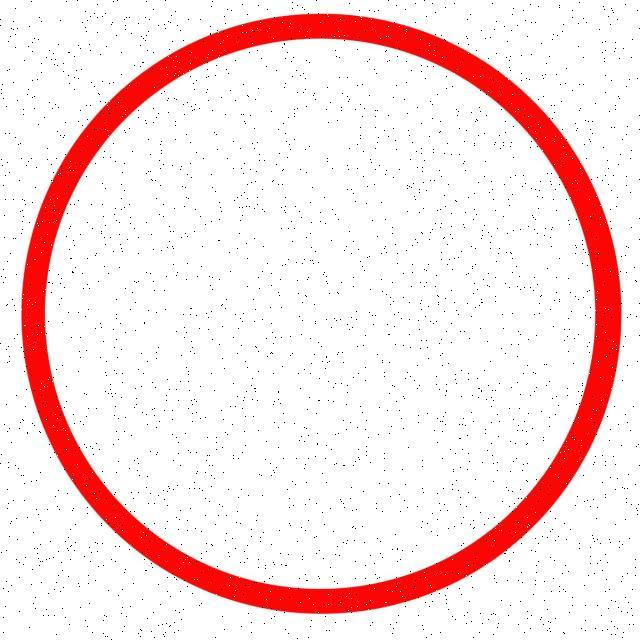Circle: (20, 10, 624, 618)
